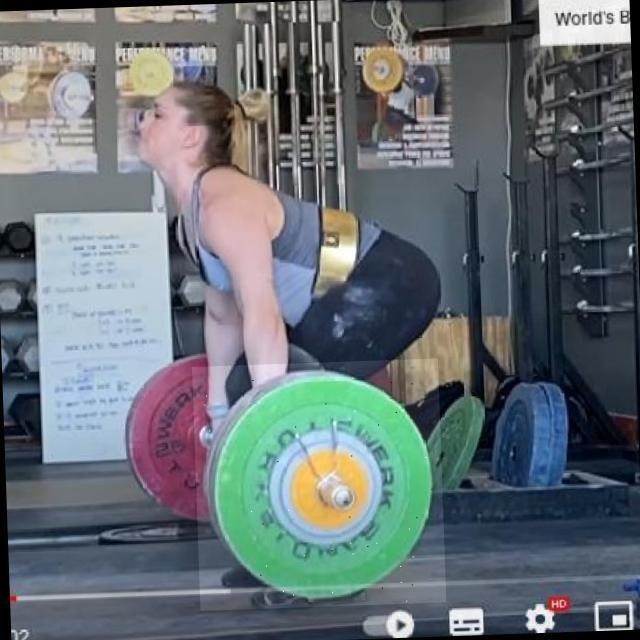barbell: (193, 359, 447, 611)
